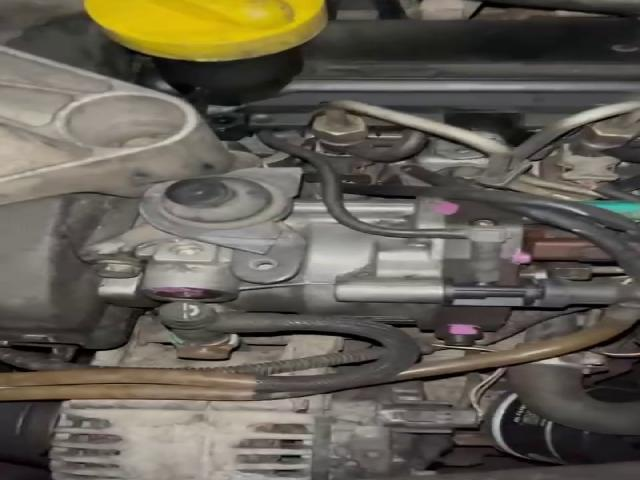alternator: (51, 399, 320, 480)
high_pressure_pump: (99, 196, 530, 345)
